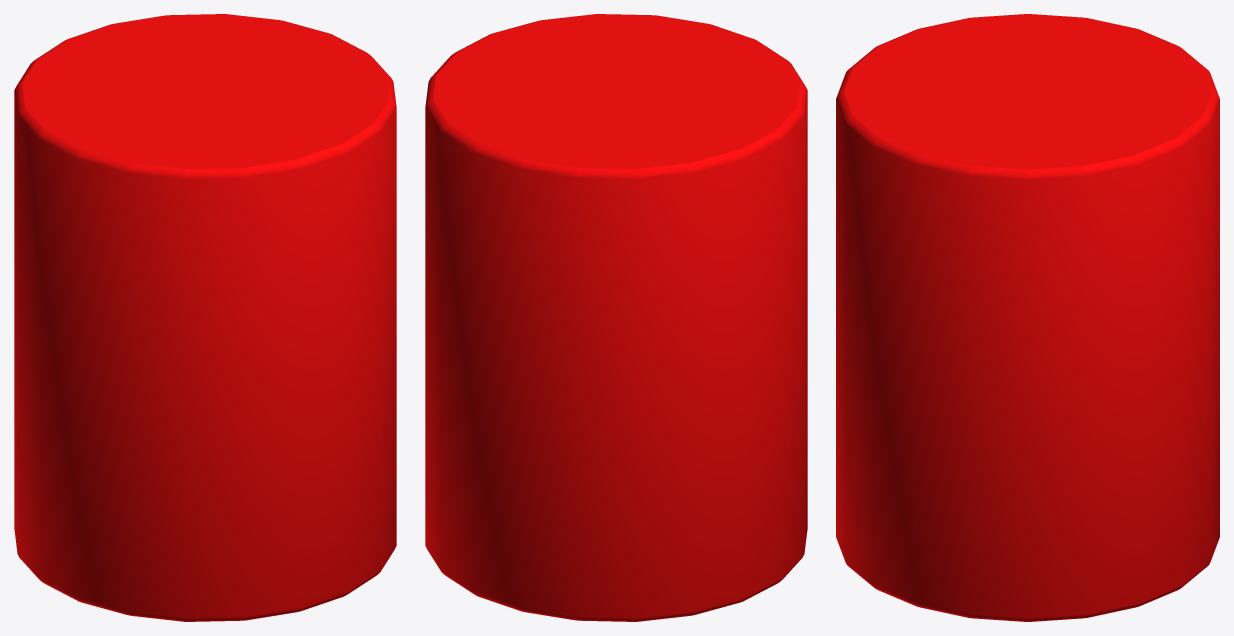
File: CylinderRed.fbx
3 views of the same model, side by side, from view 1: azimuth 30°, elevation 25°; view 2: azimuth 150°, elevation 25°; view 3: azimuth 270°, elevation 25° (orthographic).
Parts seen in each view (by area): view 1: Cylinder; view 2: Cylinder; view 3: Cylinder.
Boxes of the visible parts, x1,y1,x2,y2 form: Cylinder: (14,14,396,621); Cylinder: (425,14,807,621); Cylinder: (836,14,1219,621).
Size of the model in its own units: 2 by 2.6 by 2.
